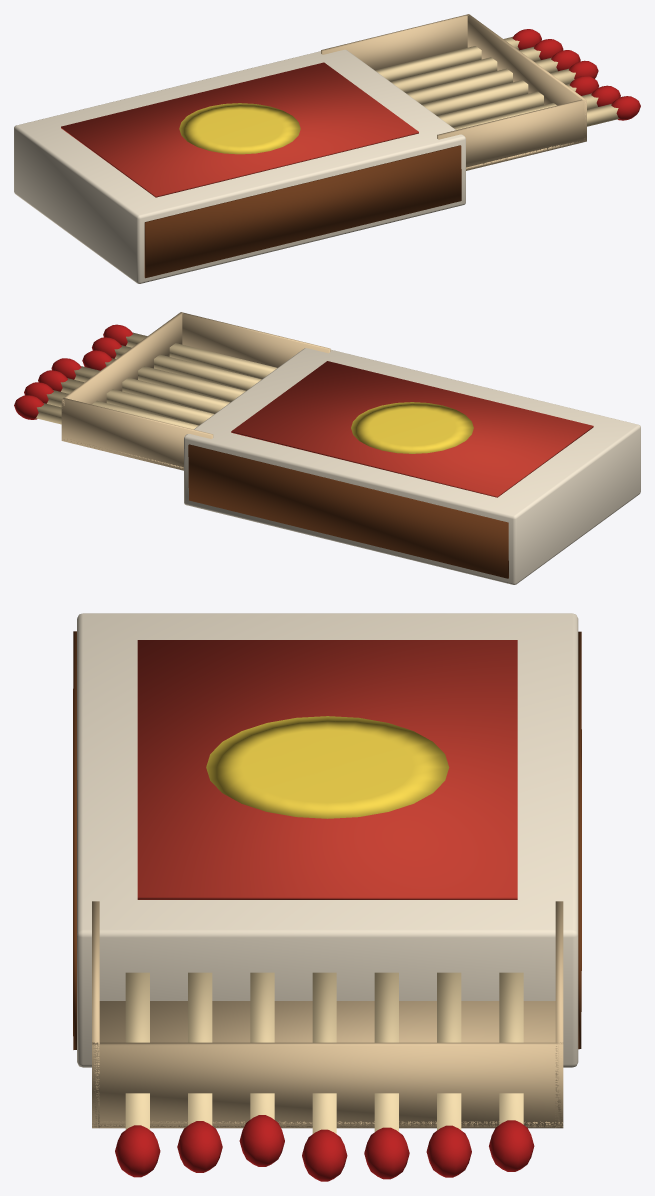
Rendered from items-matchbox.glb.
3 renders of one model, top to bottom at view 1: azimuth 30°, elevation 25°; view 2: azimuth 150°, elevation 25°; view 3: azimuth 270°, elevation 25°, orthographic. The views are drawn at different scales.
Visible parts, largest first — view 1: Matchbox__Sleeve, Matchbox__Label, Matchbox__Strikers, Matchbox__Drawer, Matchbox__Sticks, Matchbox__LabelSun, Matchbox__Heads; view 2: Matchbox__Sleeve, Matchbox__Label, Matchbox__Strikers, Matchbox__Drawer, Matchbox__Sticks, Matchbox__LabelSun, Matchbox__Heads; view 3: Matchbox__Sleeve, Matchbox__Label, Matchbox__Drawer, Matchbox__LabelSun, Matchbox__Sticks, Matchbox__Heads, Matchbox__Strikers.
Part boxes in pixels (bbox=[...]): Matchbox__Sleeve: bbox=[14, 49, 465, 283]; Matchbox__Label: bbox=[61, 62, 418, 197]; Matchbox__Strikers: bbox=[144, 145, 461, 278]; Matchbox__Drawer: bbox=[321, 14, 586, 170]; Matchbox__Sticks: bbox=[375, 36, 619, 129]; Matchbox__LabelSun: bbox=[179, 103, 300, 154]; Matchbox__Heads: bbox=[512, 29, 640, 120]; Matchbox__Sleeve: bbox=[184, 348, 640, 584]; Matchbox__Label: bbox=[231, 361, 593, 497]; Matchbox__Strikers: bbox=[188, 444, 508, 578]; Matchbox__Drawer: bbox=[61, 312, 330, 470]; Matchbox__Sticks: bbox=[35, 332, 276, 429]; Matchbox__LabelSun: bbox=[351, 402, 473, 453]; Matchbox__Heads: bbox=[14, 324, 132, 419]; Matchbox__Sleeve: bbox=[77, 613, 578, 1067]; Matchbox__Label: bbox=[137, 640, 517, 899]; Matchbox__Drawer: bbox=[92, 901, 563, 1128]; Matchbox__LabelSun: bbox=[206, 716, 449, 818]; Matchbox__Sticks: bbox=[125, 972, 523, 1133]; Matchbox__Heads: bbox=[115, 1115, 534, 1181]; Matchbox__Strikers: bbox=[73, 631, 581, 1049].
Bounding box in the file's own units: 15.82 × 2.1 × 6.7.
